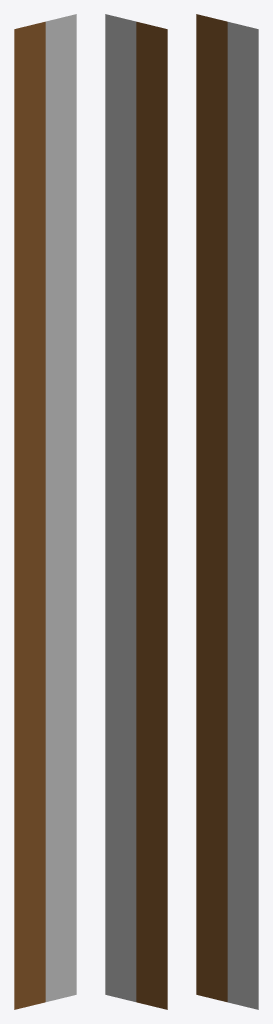
File: partstex.obj
3 views of the same model, side by side, from view 1: azimuth 30°, elevation 25°; view 2: azimuth 150°, elevation 25°; view 3: azimuth 330°, elevation 25° (orthographic).
Parts seen in each view (by area): view 1: Wall, Floor; view 2: Wall, Floor; view 3: Wall, Floor.
Boxes of the visible parts, bbox=[...] form: Wall: bbox=[14, 21, 45, 1009]; Floor: bbox=[45, 14, 76, 1001]; Wall: bbox=[136, 21, 167, 1009]; Floor: bbox=[105, 14, 136, 1001]; Wall: bbox=[196, 14, 227, 1002]; Floor: bbox=[227, 22, 258, 1009].
Bounding box in the file's own units: 2 × 30 × 0.
